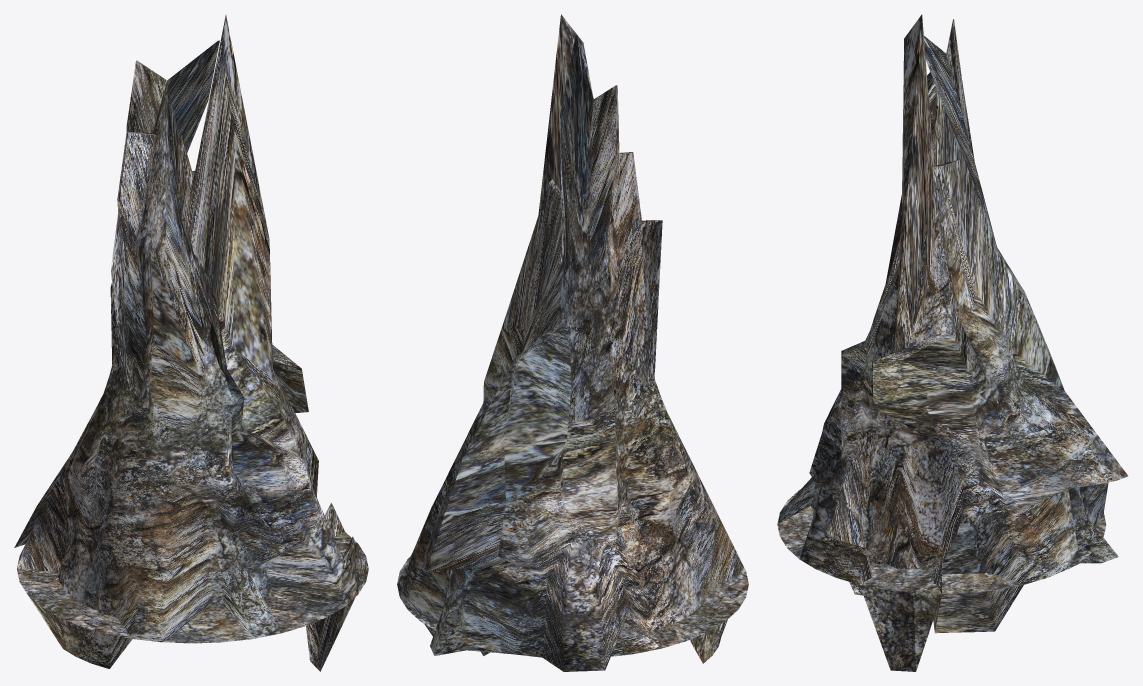
File: stalaktnit_2.fbx
3 views of the same model, side by side, from view 1: azimuth 30°, elevation 25°; view 2: azimuth 150°, elevation 25°; view 3: azimuth 270°, elevation 25° (orthographic). The views are drawn at different scales.
Visible parts, largest first — view 1: Kegel; view 2: Kegel; view 3: Kegel.
Boxes of the visible parts, x1,y1,x2,y2 form: Kegel: (14,15,368,671); Kegel: (397,14,748,671); Kegel: (777,14,1128,671).
Bounding box in the file's own units: 176 × 367 × 188.
Materials: 1 (1 with a texture image).
